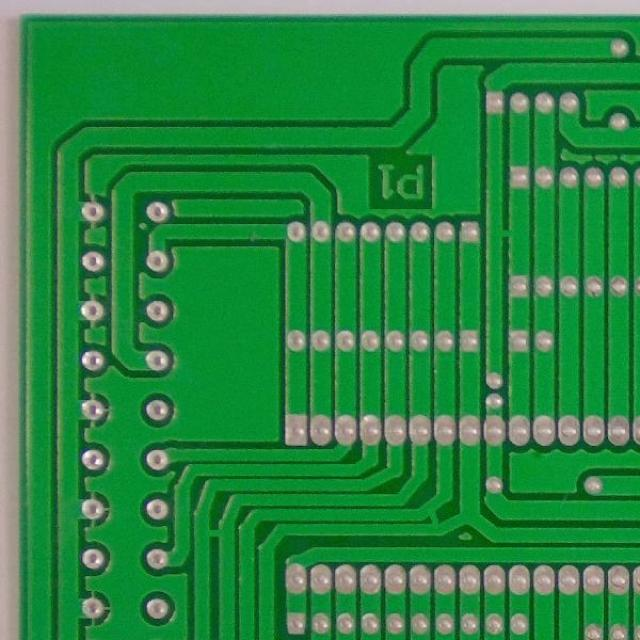Short_Circuit: (485, 216, 537, 257), (194, 514, 234, 556), (409, 504, 454, 535)
